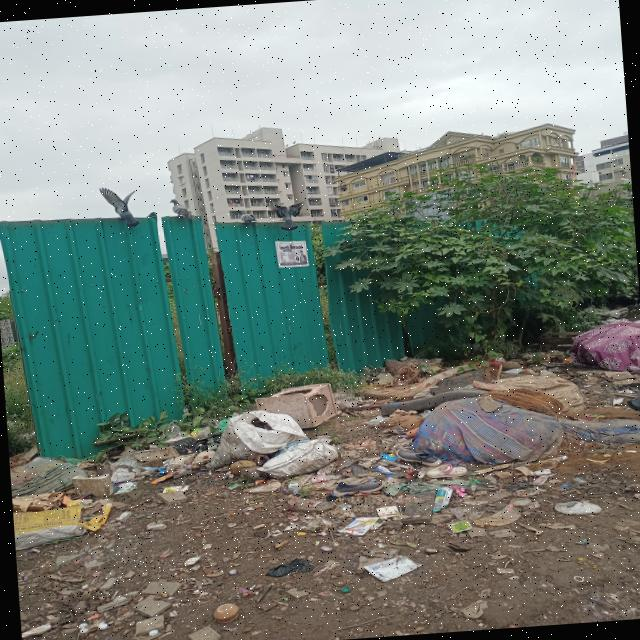garbage: (355, 321, 640, 526), (198, 368, 380, 542), (7, 417, 206, 543)
